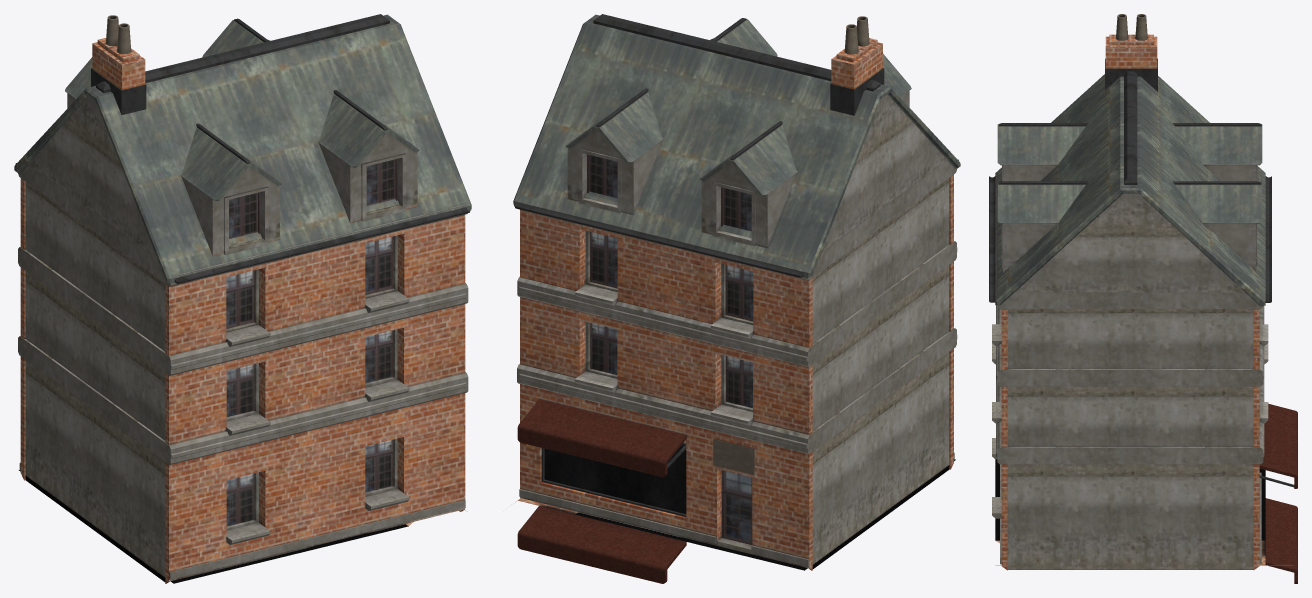
Rendered from bld22_20c.glb.
3 renders of one model, left to right at view 1: azimuth 30°, elevation 25°; view 2: azimuth 150°, elevation 25°; view 3: azimuth 270°, elevation 25°, orthographic. The views are drawn at different scales.
Visible parts, largest first — view 1: bld22_20c; view 2: bld22_20c; view 3: bld22_20c.
Boxes of the visible parts, x1,y1,x2,y2 form: bld22_20c: (14,14,471,583); bld22_20c: (513,14,960,583); bld22_20c: (989,14,1297,583).
Bounding box in the file's own units: 19.81 × 32.99 × 19.99.
1 material, 1 textured.
